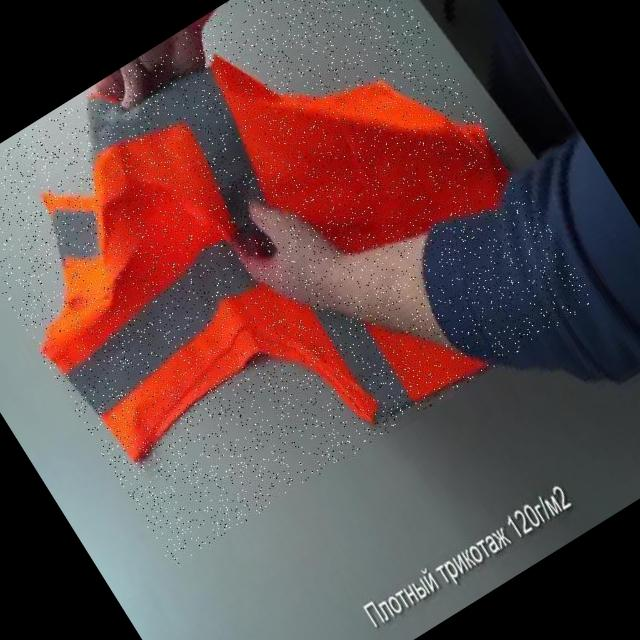safety_vest: (0, 0, 597, 567)
